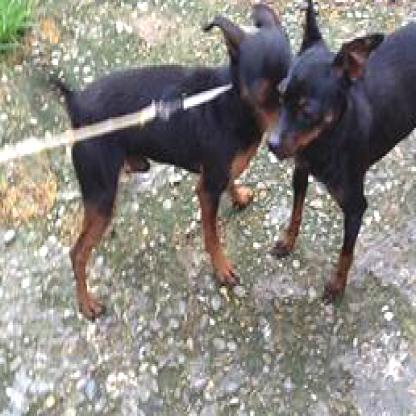dog: (47, 4, 293, 323), (268, 0, 414, 312)
